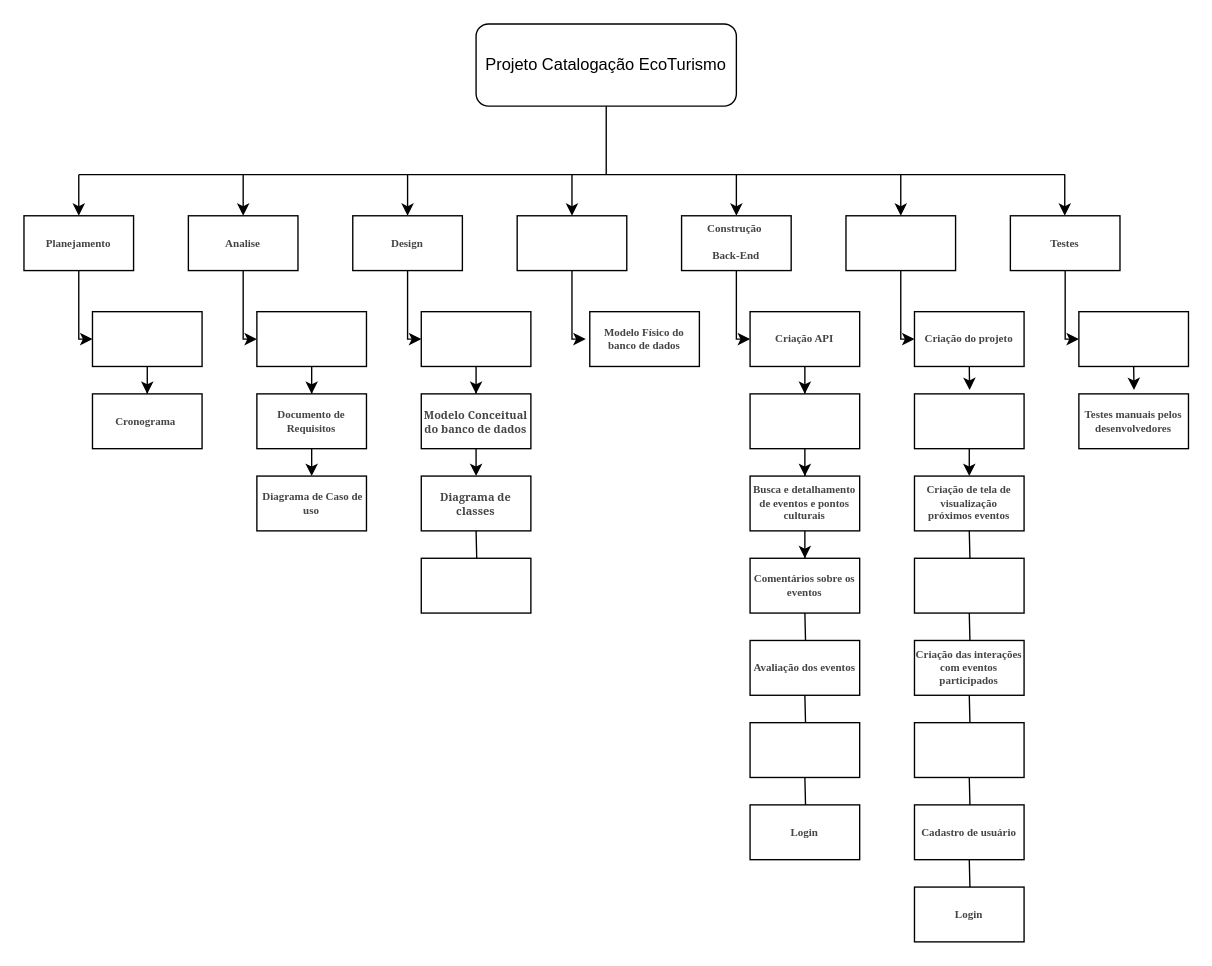
The diagram is 1212 pixels wide and 966 high, and some of its shapes have lost their labels. Here are the shapes that lost their labels. From the top down, the centre of each, then its label:
At pixel 571 242: "Construção Banco de Dados".
At pixel 900 242: "Construção Front-End".
At pixel 146 338: "Briefing".
At pixel 311 338: "EAP".
At pixel 475 338: "BPMN".
At pixel 1133 338: "Verificação da cobertura de testes automatizados".
At pixel 804 421: "Criação de eventos/pontos culturais".
At pixel 968 421: "Criação de componentes globais".
At pixel 475 585: "Prototipação das telas".
At pixel 968 585: "Criação detalhamento de próximos eventos".
At pixel 804 749: "Cadastro de usuários".
At pixel 968 749: "Visualização de métricas dos eventos realizados".
